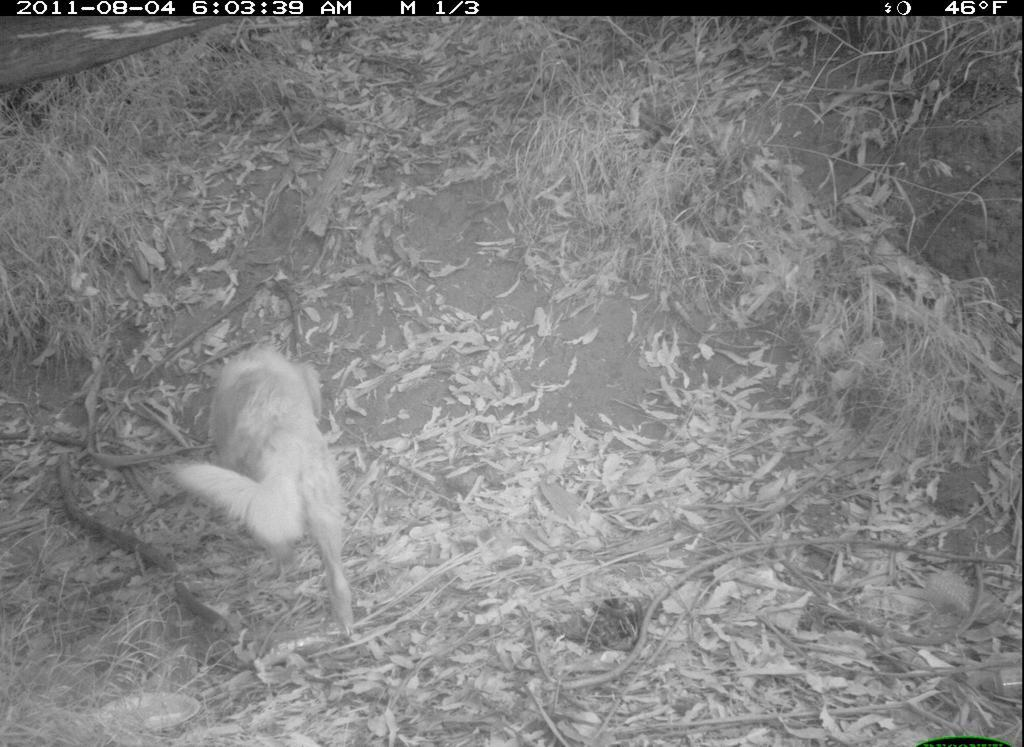dog: (159, 339, 379, 652)
